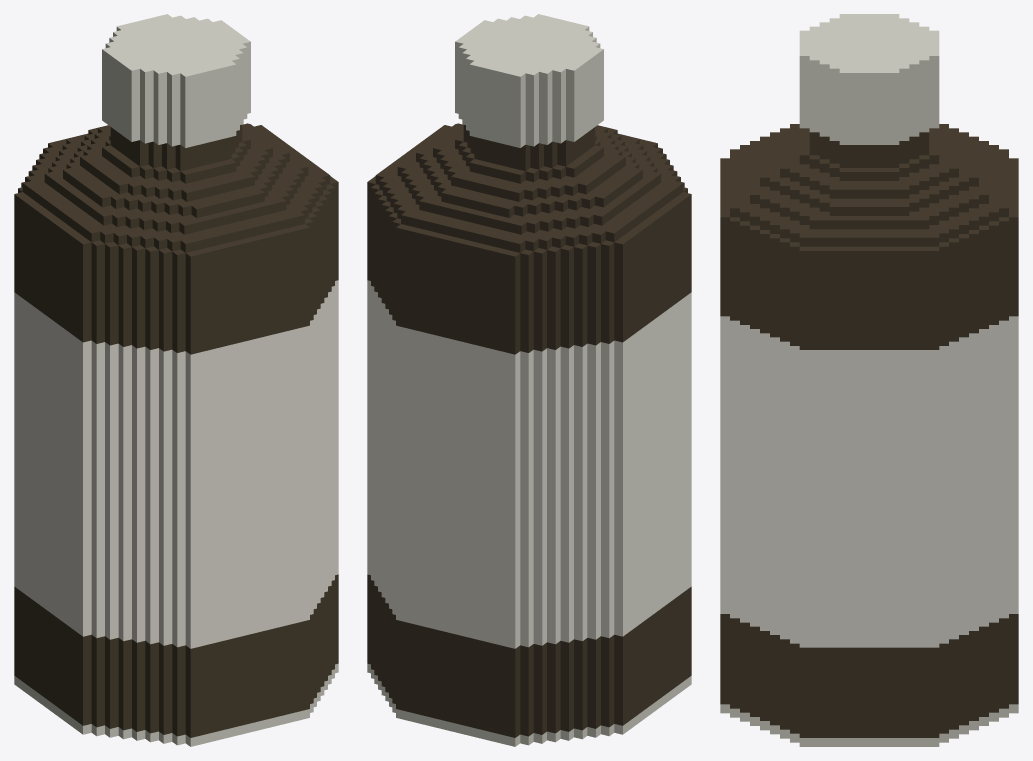
The model's file is hydrogen_peroxide.glb.
The picture shows the model from 3 angles, left to right: view 1: azimuth 30°, elevation 25°; view 2: azimuth 150°, elevation 25°; view 3: azimuth 270°, elevation 25°; orthographic projection.
Visible parts, largest first — view 1: hydrogen_peroxide:vessel; view 2: hydrogen_peroxide:vessel; view 3: hydrogen_peroxide:vessel.
Boxes of the visible parts, left/top/right/bottom form: hydrogen_peroxide:vessel: left=14, top=14, right=338, bottom=746; hydrogen_peroxide:vessel: left=367, top=14, right=691, bottom=746; hydrogen_peroxide:vessel: left=720, top=14, right=1018, bottom=746.
Bounding box in the file's own units: 0.06 × 0.142 × 0.06.
